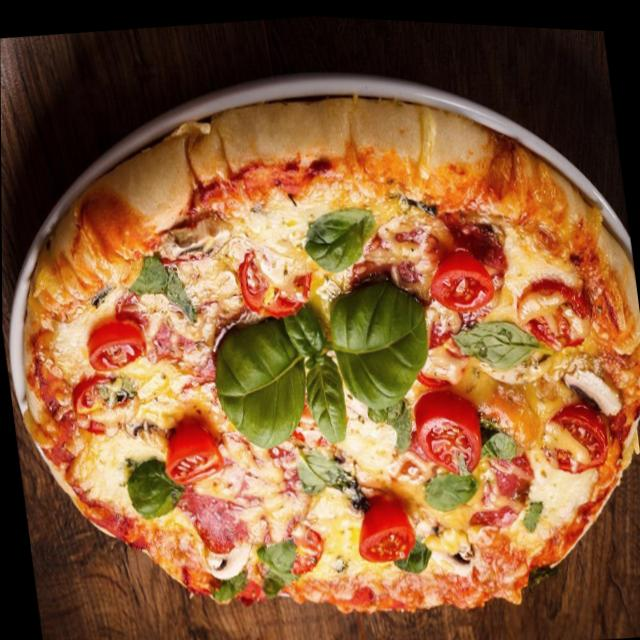pizza: (0, 48, 640, 640)
